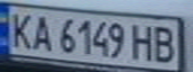1: (72, 17, 93, 56)
4: (90, 18, 112, 56)
6: (54, 15, 78, 54)
9: (106, 19, 130, 60)
A: (27, 11, 57, 52)
B: (148, 24, 178, 64)
H: (127, 21, 160, 62)
K: (6, 9, 36, 50)
